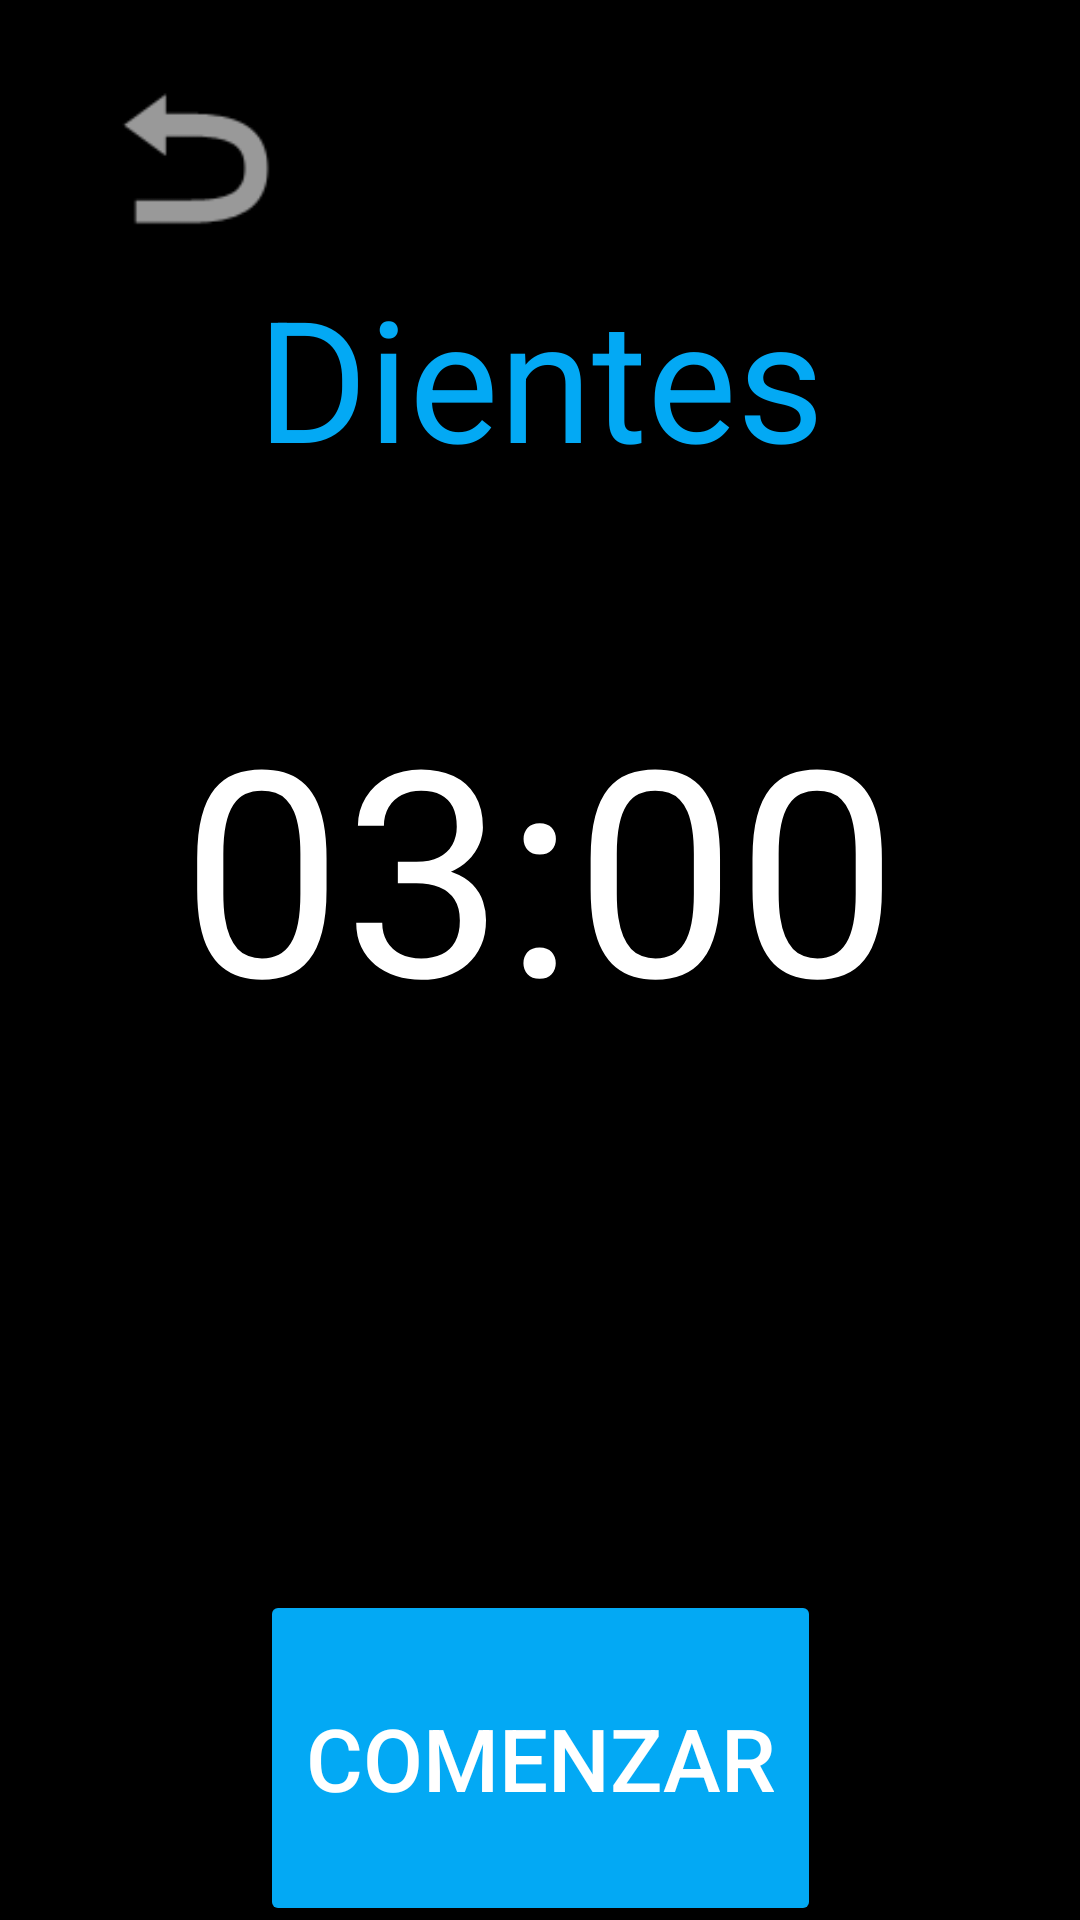

Where to tap for icons on this 1080×1920 app screen, as (x=x, y=y):
revert: (x=196, y=159)
